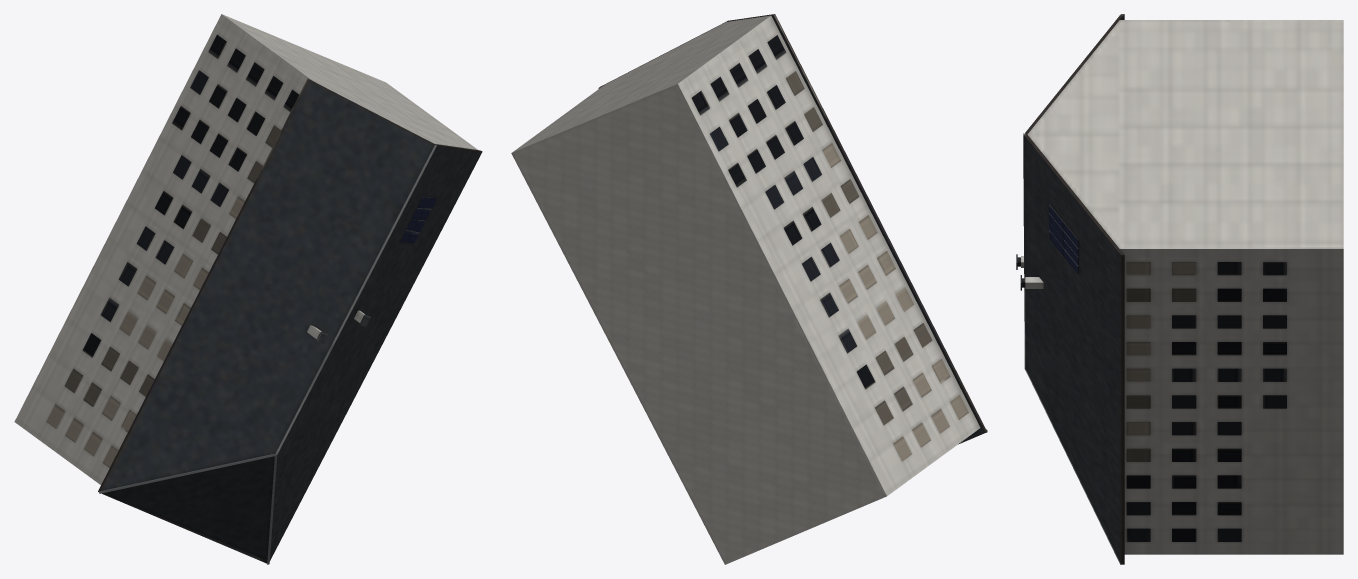
The model's file is house_b0049.obj.
3 views of the same model, side by side, from view 1: azimuth 30°, elevation 25°; view 2: azimuth 150°, elevation 25°; view 3: azimuth 270°, elevation 25° (orthographic). The views are drawn at different scales.
Visible parts, largest first — view 1: house_b0049; view 2: house_b0049; view 3: house_b0049.
Boxes of the visible parts, x1,y1,x2,y2 form: house_b0049: (14,14,482,564); house_b0049: (511,14,987,564); house_b0049: (1016,14,1343,564).
Bounding box in the file's own units: 35.37 × 41.87 × 21.6.
Materials: 1 (1 with a texture image).
